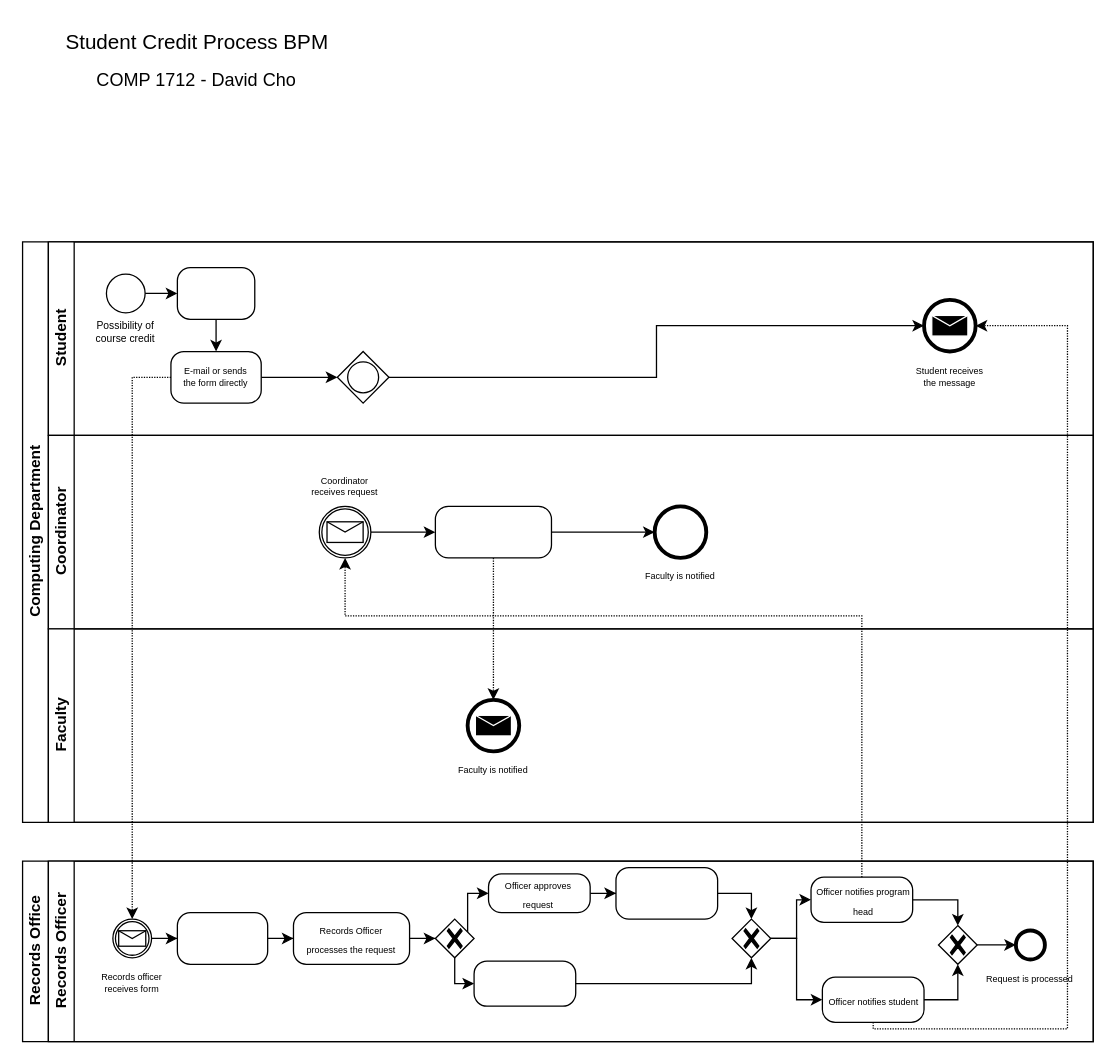
This 1116x1064 diagram has some shape labels left out. Each missing label, with the centre of its shape:
Coordinator notifies faculty: the point at 492,531
Fill out the form: the point at 215,292
Officer denies request: the point at 524,983
Officer drops student from class list and approves credit: the point at 666,892
Records Officer files the request: the point at 222,937
